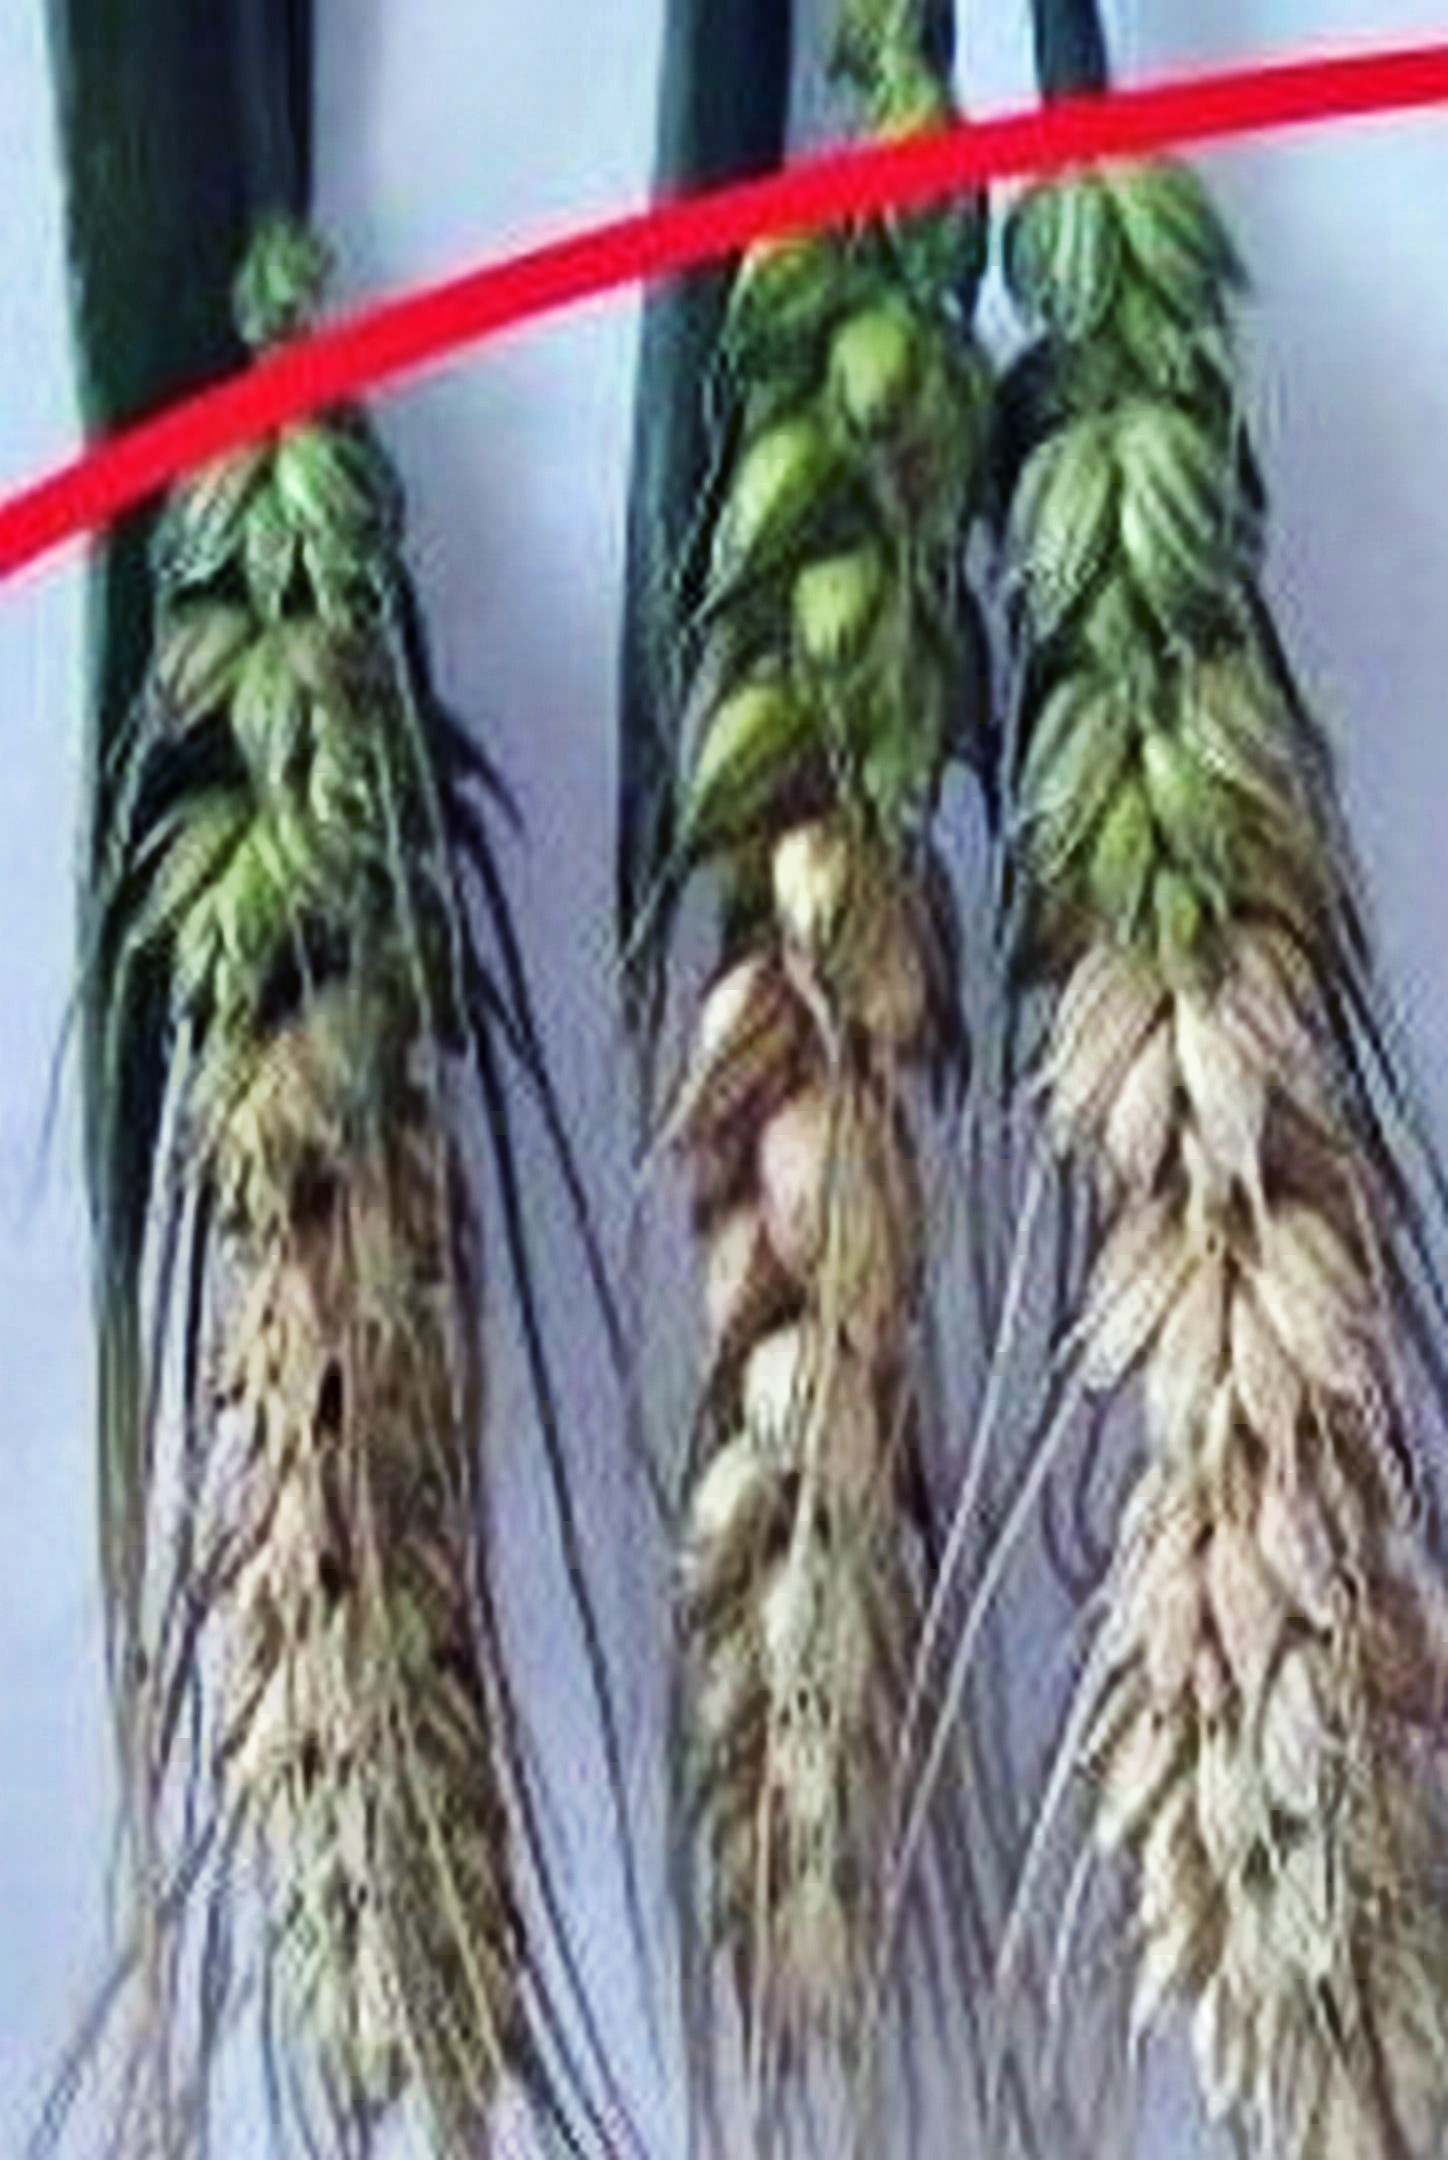Wheat scab: (53, 296, 528, 2120), (1013, 124, 1448, 2079), (643, 105, 1012, 2078)
